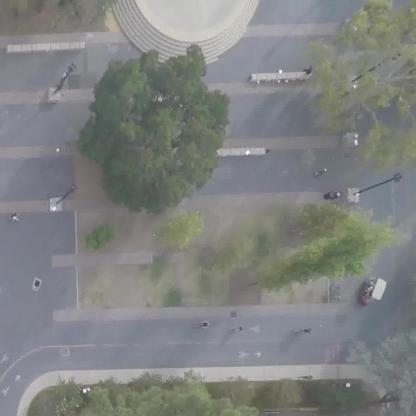Pedestrian: (5, 208, 27, 229), (292, 60, 312, 81), (315, 157, 329, 179), (56, 64, 76, 78)
Skateboarder: (292, 323, 323, 342), (192, 317, 216, 333), (227, 326, 257, 338)
